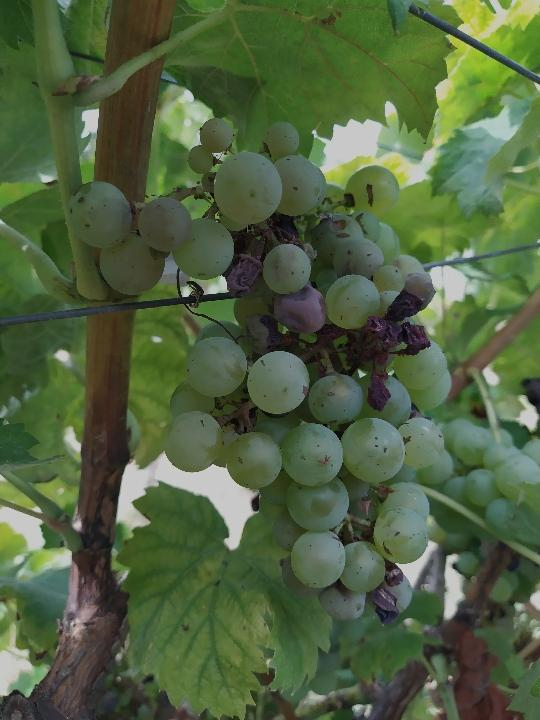grape: (64, 115, 456, 630)
